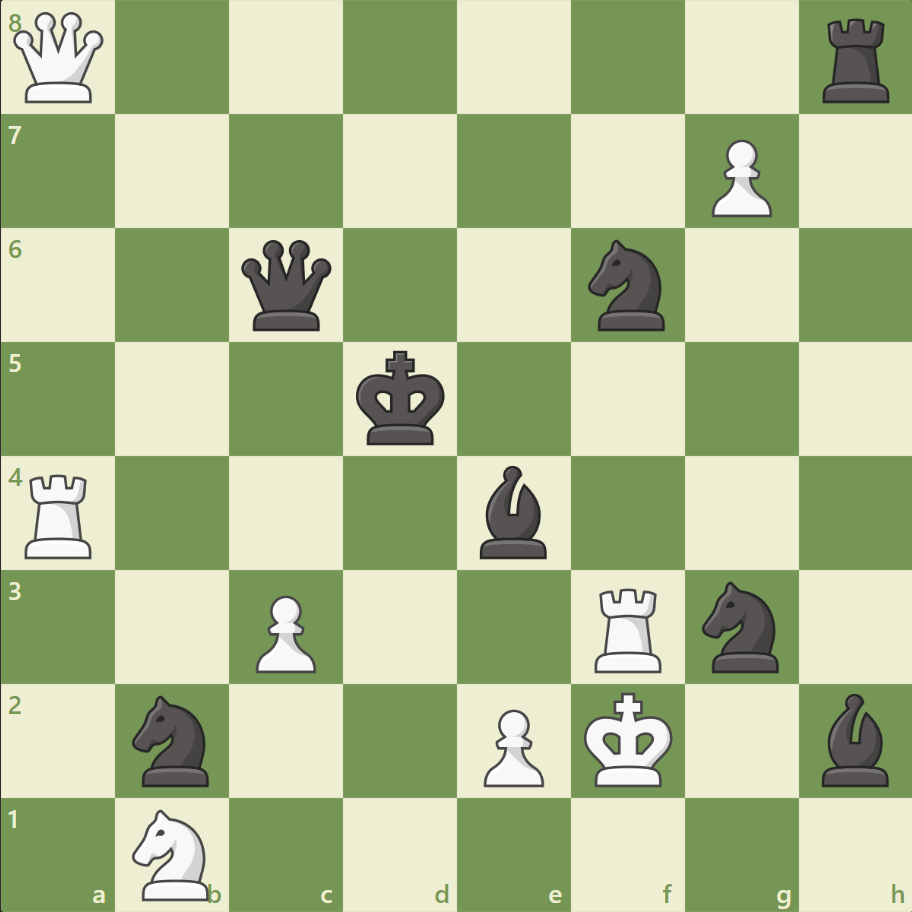K: (579, 685, 679, 793)
N: (124, 802, 222, 904)
P: (701, 132, 776, 223), (247, 586, 322, 677), (474, 700, 549, 791)
Q: (10, 9, 109, 108)
R: (19, 466, 102, 563), (587, 579, 670, 676)
b: (471, 460, 555, 563), (812, 687, 896, 790)
k: (351, 344, 451, 452)
n: (124, 688, 222, 791), (579, 234, 676, 337), (692, 575, 789, 677)
q: (237, 236, 336, 335)
r: (814, 12, 897, 109)
